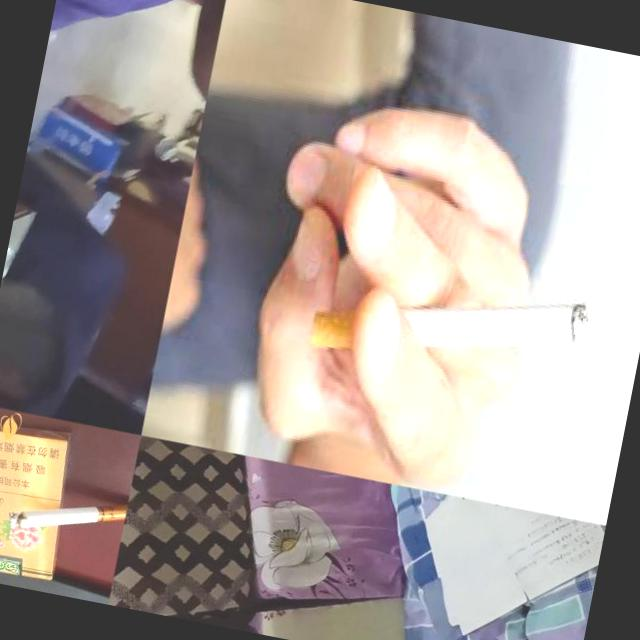cigarette: (308, 252, 591, 398), (6, 478, 129, 550)
